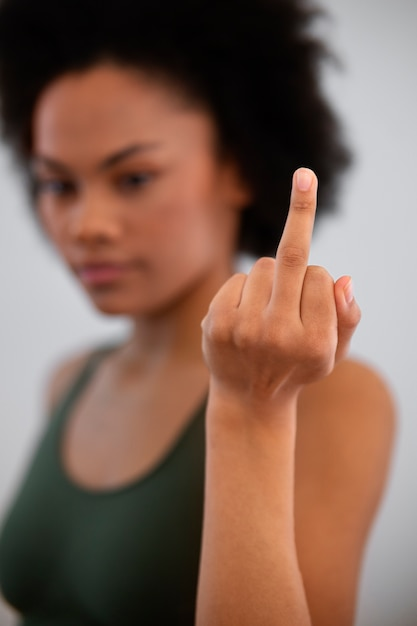insulting_gesture: (201, 165, 359, 397)
